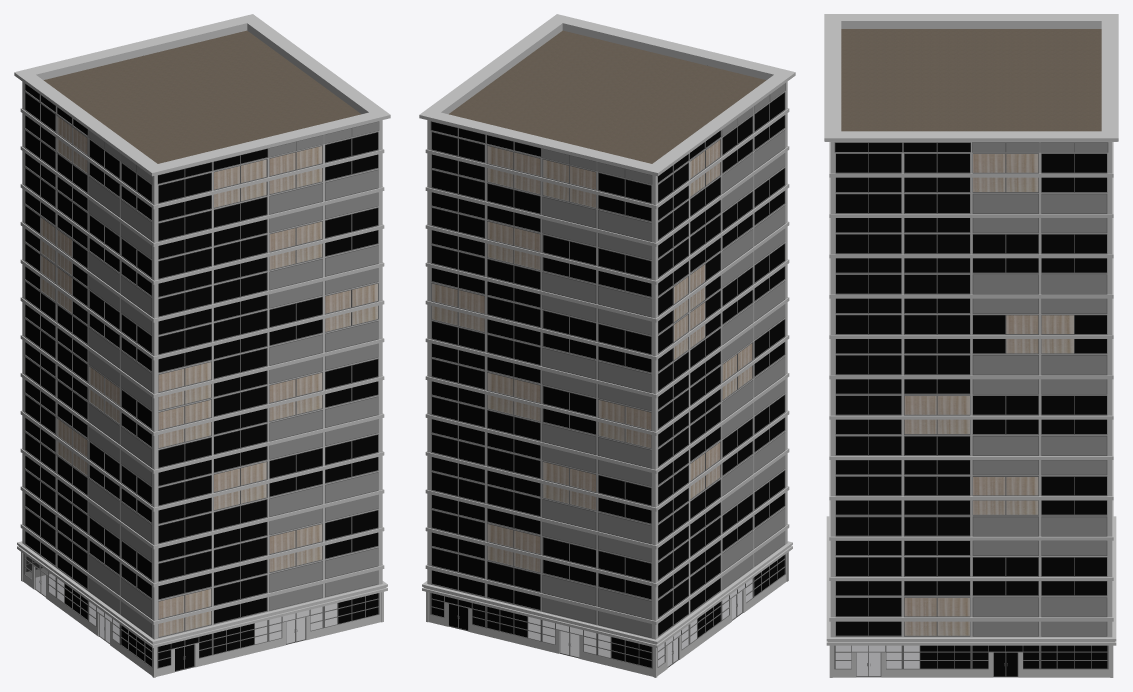
Rendered from Building05.fbx.
3 renders of one model, left to right at view 1: azimuth 30°, elevation 25°; view 2: azimuth 150°, elevation 25°; view 3: azimuth 270°, elevation 25°, orthographic. The views are drawn at different scales.
Visible parts, largest first — view 1: Building05; view 2: Building05; view 3: Building05.
Part boxes in pixels (bbox=[...]): Building05: bbox=[14, 14, 390, 677]; Building05: bbox=[419, 14, 795, 677]; Building05: bbox=[824, 14, 1118, 677].
Size of the model in its own units: 2644 by 5372 by 2644.
